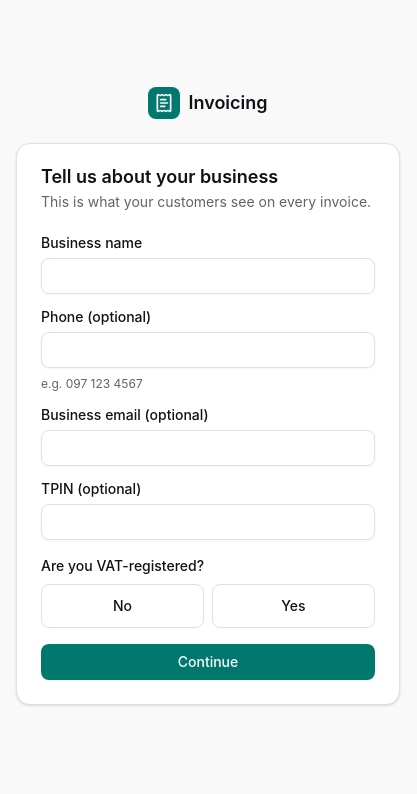
OnboardingPage › explains ZRA Smart Invoice when the business is VAT-registered
Check: the text "ZRA Smart Invoice" is not shown
Click the radio button "Yes": [294, 606] box [212,584,375,628]
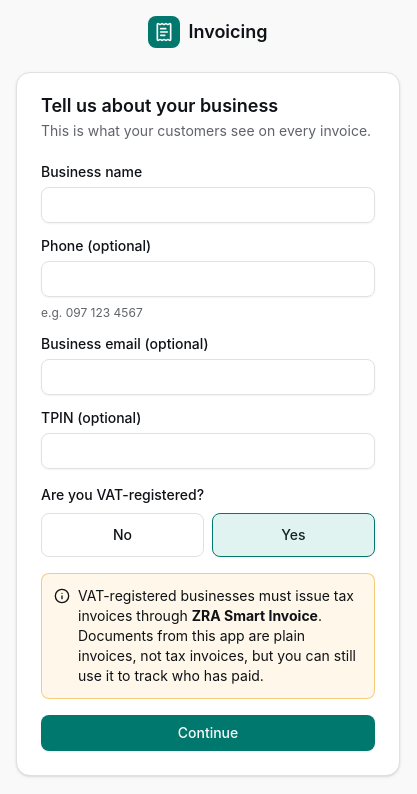
Check: the text "ZRA Smart Invoice" is shown, box [192,607,318,624]
